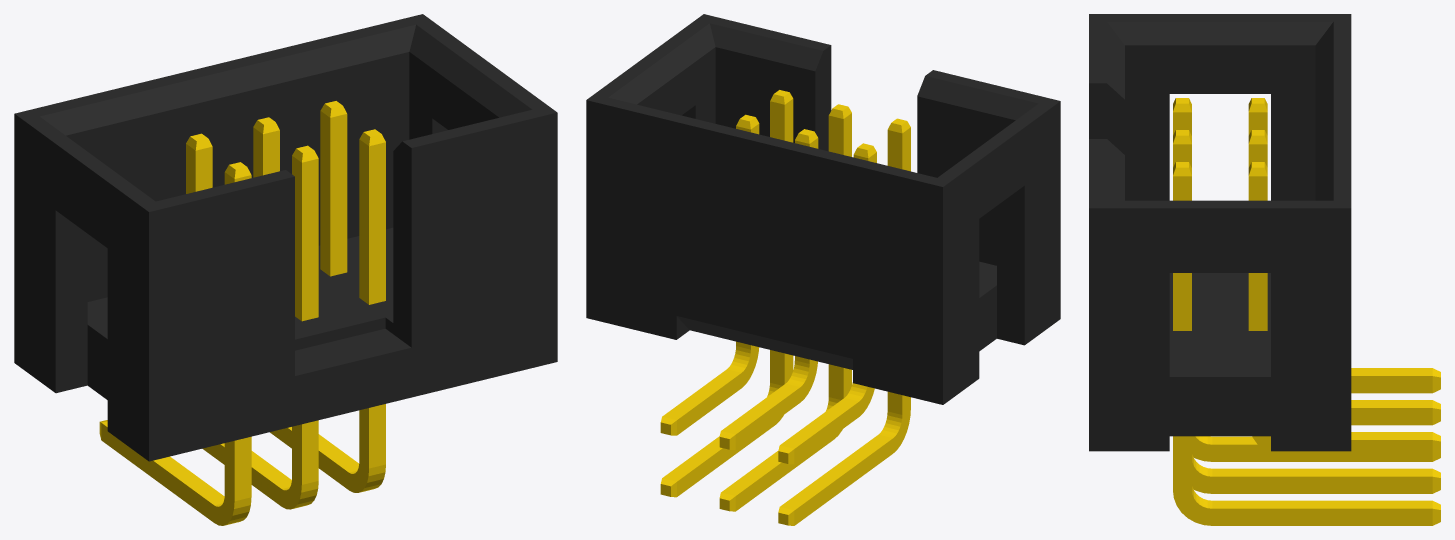
File: DS1013-6R (IDC-6R CONNFLY).obj
3 views of the same model, side by side, from view 1: azimuth 30°, elevation 25°; view 2: azimuth 150°, elevation 25°; view 3: azimuth 270°, elevation 25° (orthographic). The views are drawn at different scales.
Visible parts, largest first — view 1: DS1013-6R_(IDC-6R_CONNFLY); view 2: DS1013-6R_(IDC-6R_CONNFLY); view 3: DS1013-6R_(IDC-6R_CONNFLY).
Boxes of the visible parts, bbox=[...] form: DS1013-6R_(IDC-6R_CONNFLY): bbox=[14, 14, 557, 525]; DS1013-6R_(IDC-6R_CONNFLY): bbox=[586, 14, 1060, 525]; DS1013-6R_(IDC-6R_CONNFLY): bbox=[1089, 14, 1440, 525].
Size of the model in its own units: 0.0187 by 0.017 by 0.0143.
